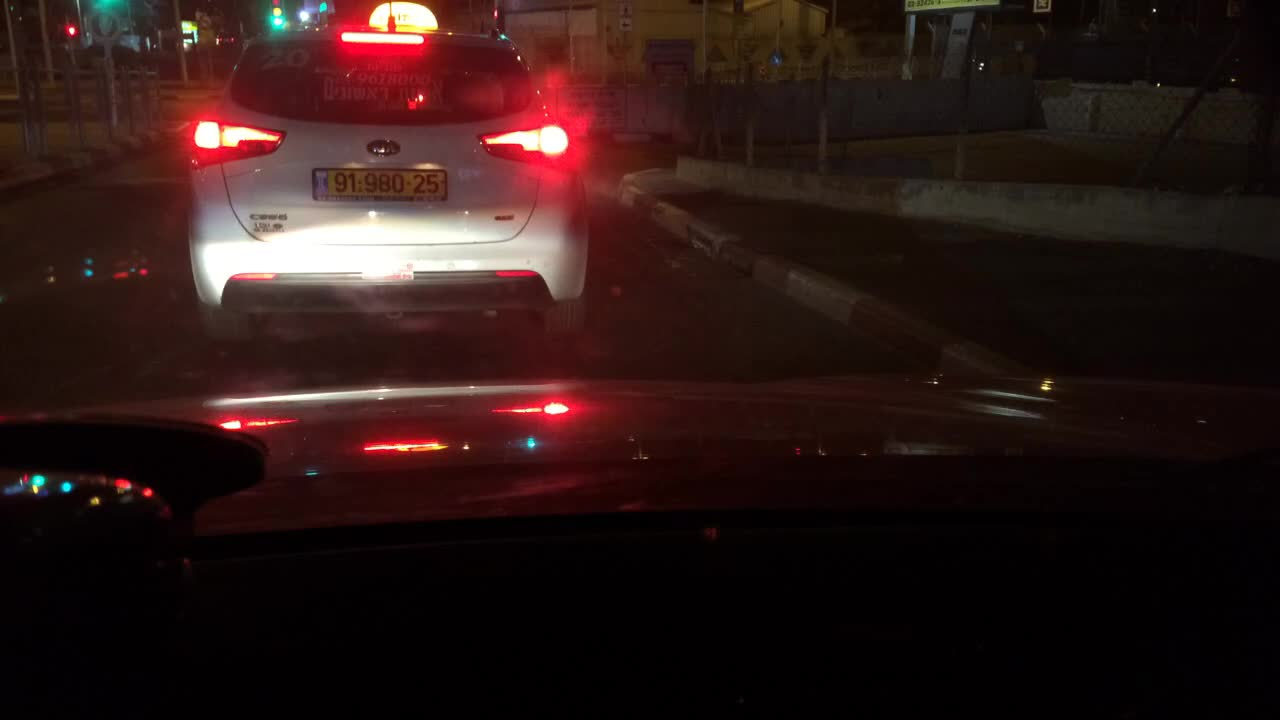car: (182, 0, 591, 351), (218, 32, 246, 47)
traffic light: (63, 21, 79, 36), (270, 15, 284, 29)
traffic sign: (87, 12, 118, 38), (619, 17, 633, 30), (198, 15, 211, 27)
